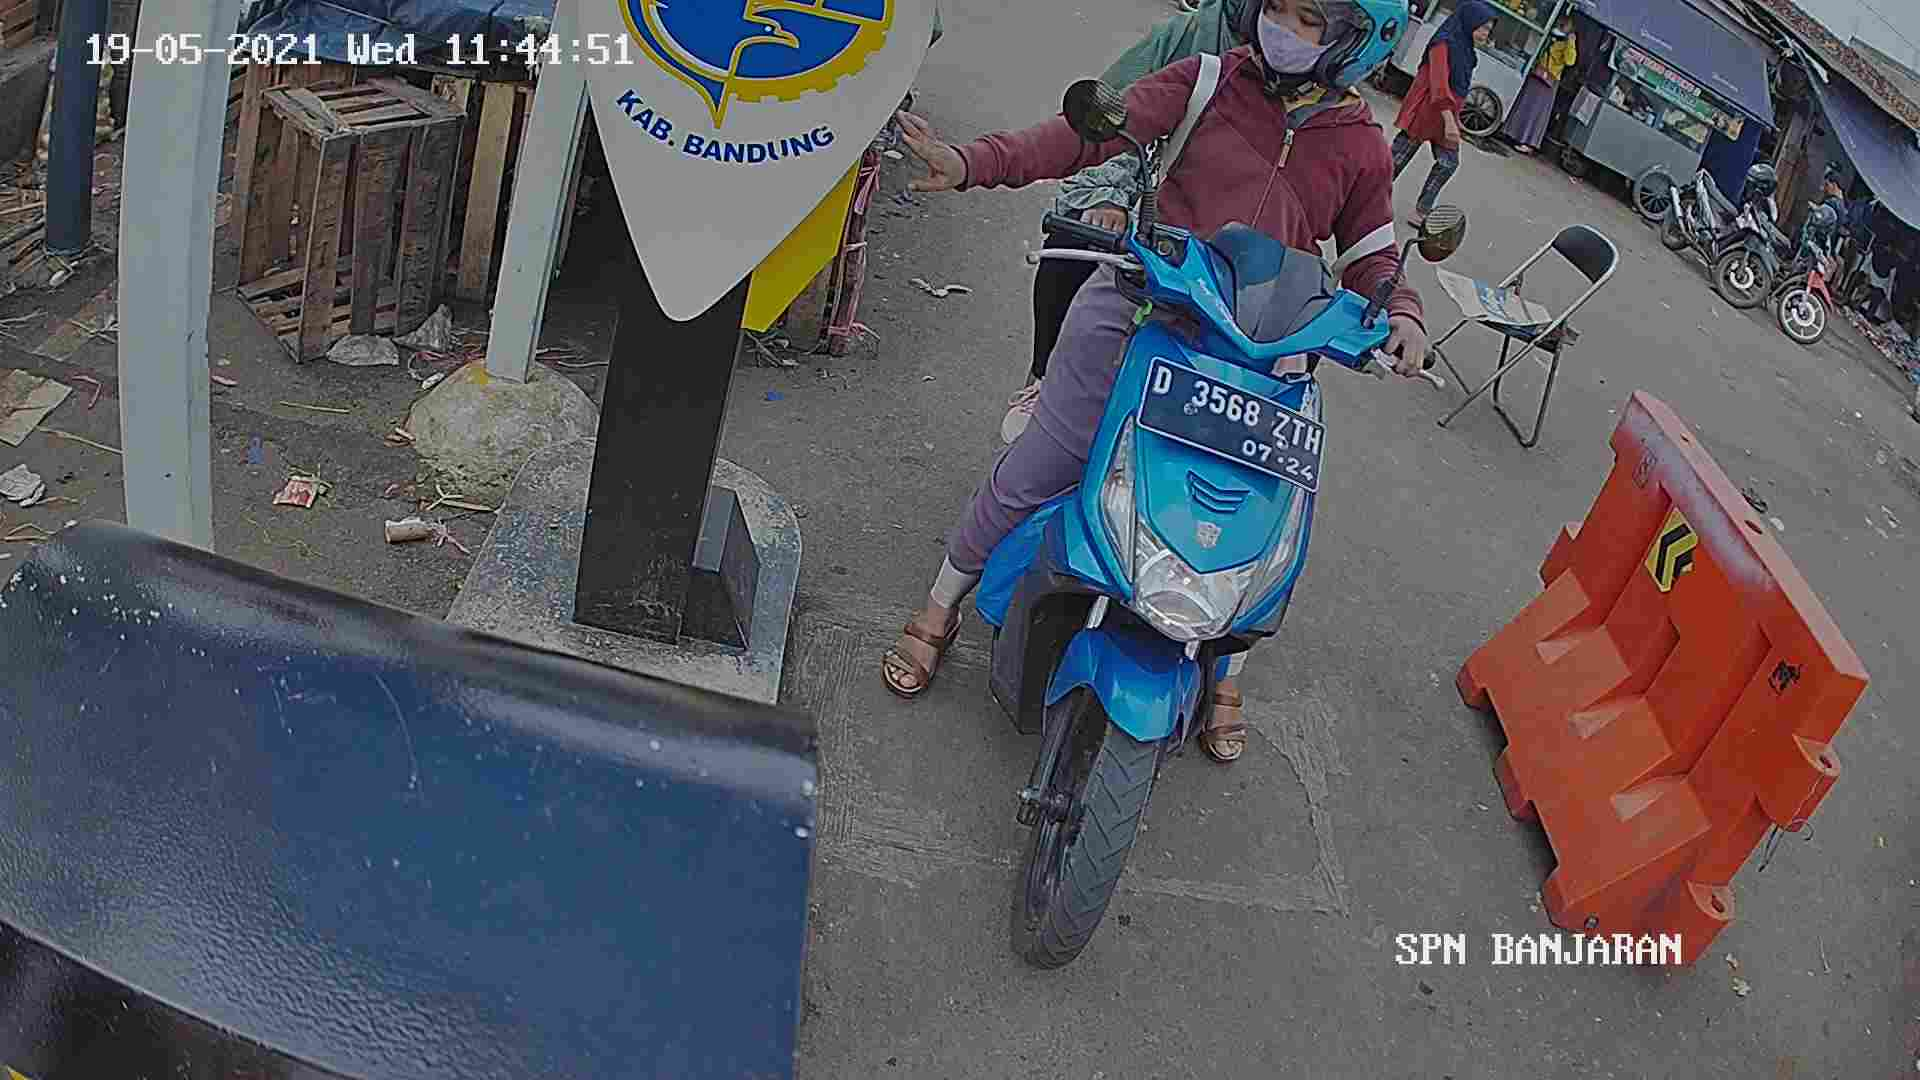motor: (942, 175, 1385, 985)
